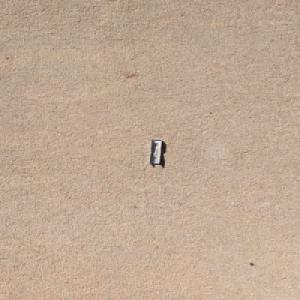ClampPart: (147, 138, 162, 164)
